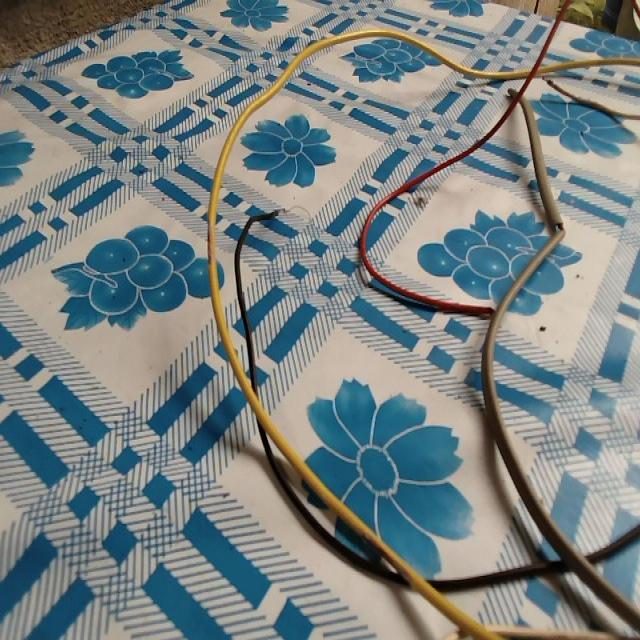-: (359, 527, 415, 593), (270, 201, 294, 227), (550, 215, 567, 240)
